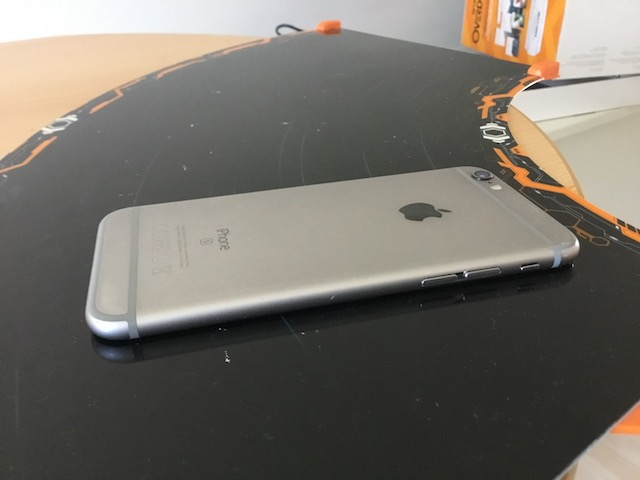phone: (80, 163, 584, 346)
